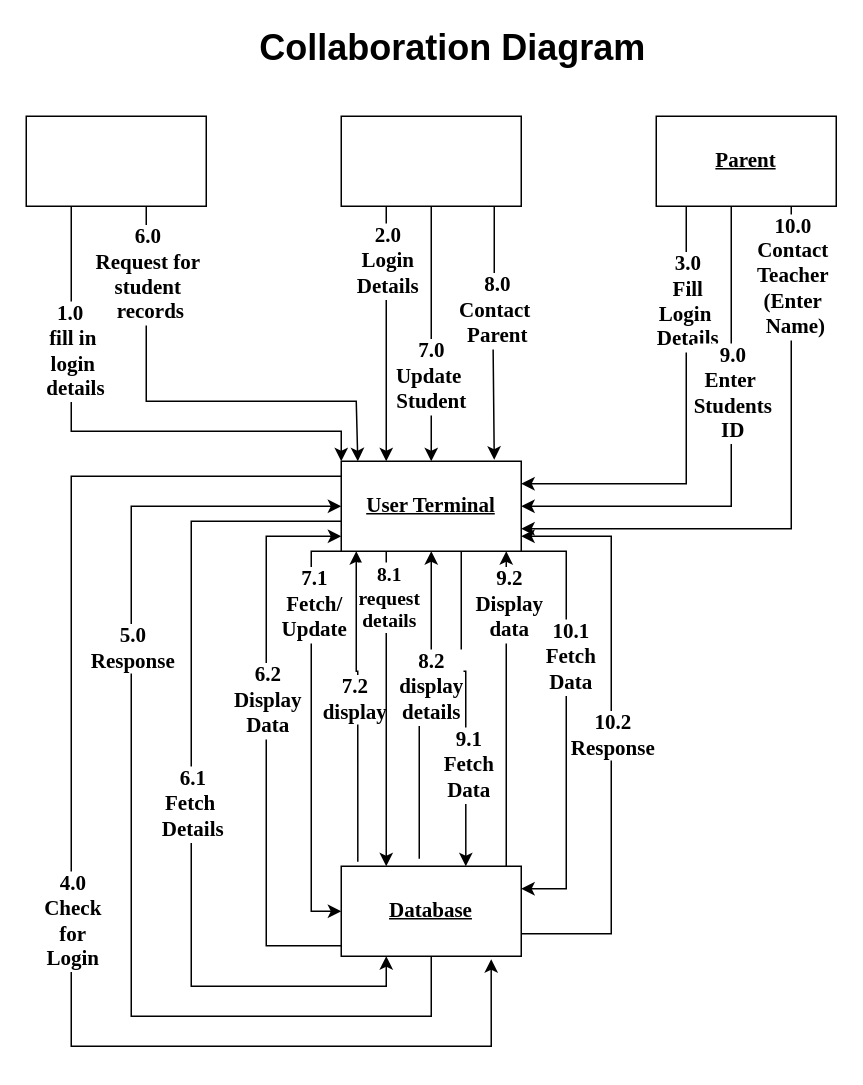
This 863x1085 diagram has some shape labels left out. The box of each missing label's shape, as (x1, y1, x2, y2) in pixels:
Student: (25, 115, 206, 206)
Teacher: (340, 115, 521, 206)
